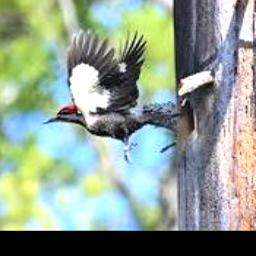Woodpecker: (41, 29, 184, 164)
